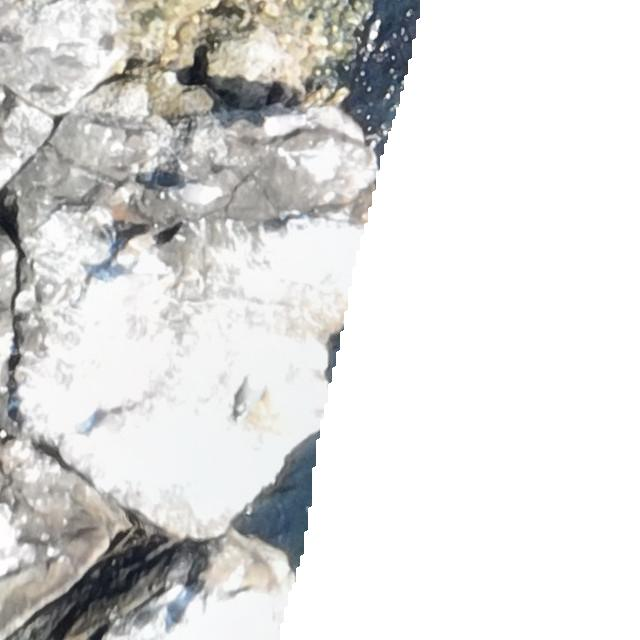umineko: (84, 406, 127, 448), (231, 371, 263, 424), (262, 111, 316, 139), (112, 268, 162, 298)
